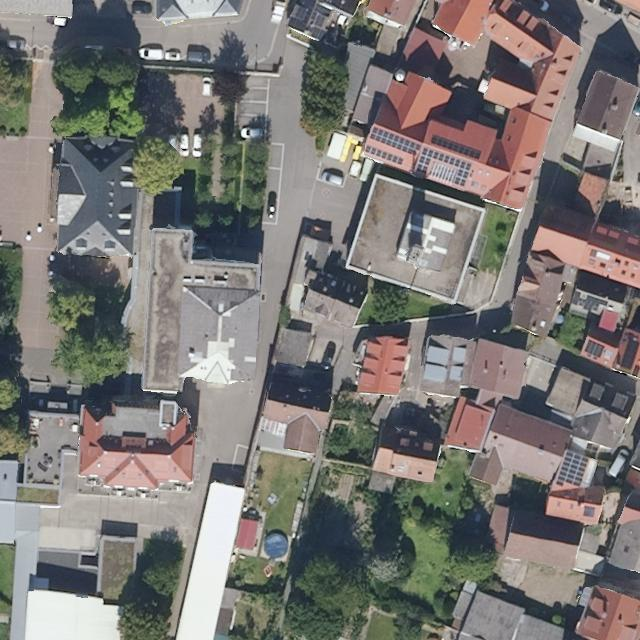PV: (415, 146, 474, 189), (370, 126, 422, 157), (428, 136, 482, 162), (555, 449, 589, 489), (304, 4, 331, 42), (569, 291, 610, 315), (364, 144, 406, 167), (289, 0, 318, 33), (620, 337, 639, 372), (583, 339, 605, 359)
